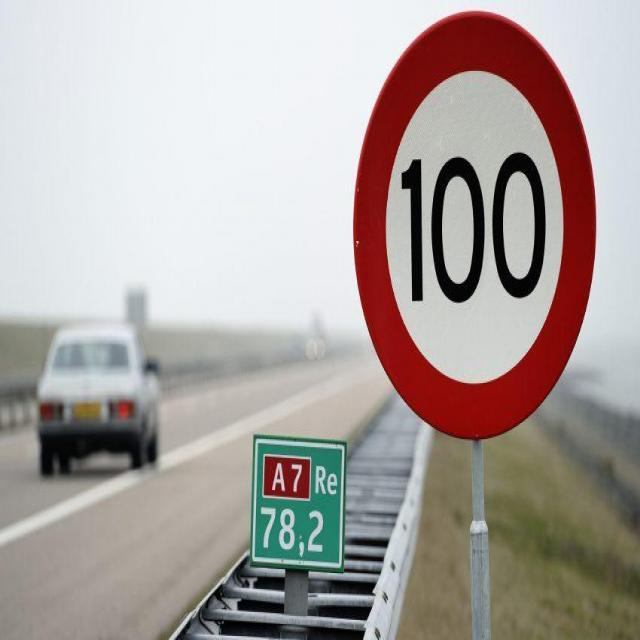speed limit 100: (350, 10, 599, 439)
